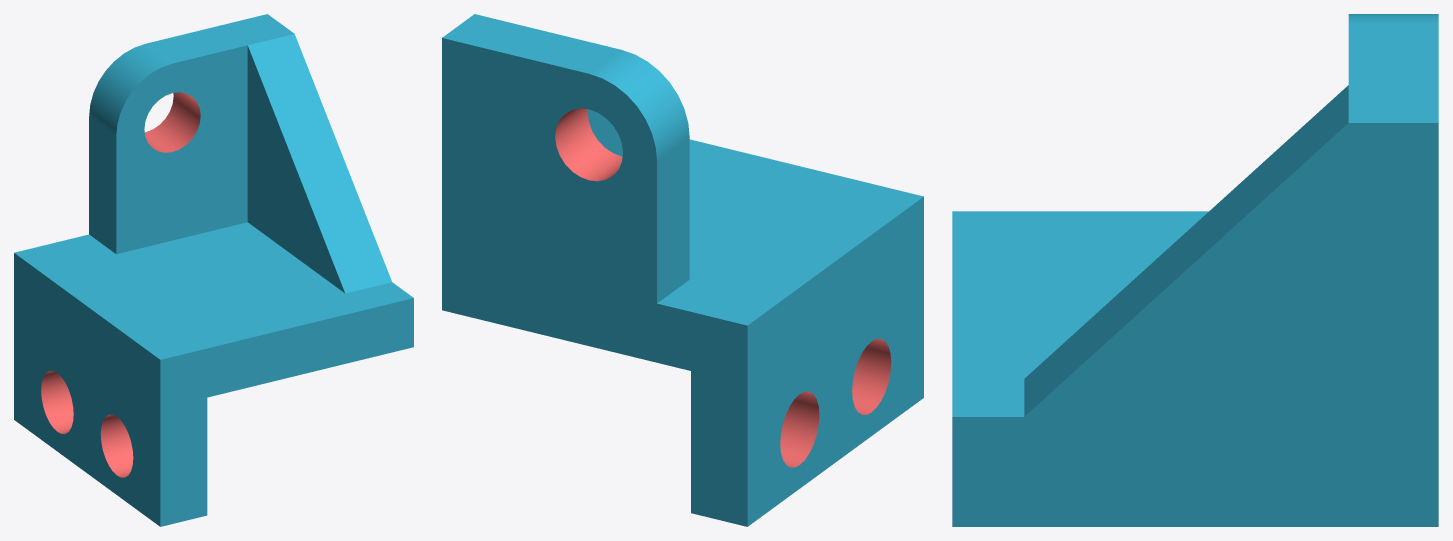
3 renders of one model, left to right at view 1: azimuth 30°, elevation 25°; view 2: azimuth 150°, elevation 25°; view 3: azimuth 270°, elevation 25°, orthographic. The views are drawn at different scales.
Bounding box in the file's own units: 27 × 35 × 27.
